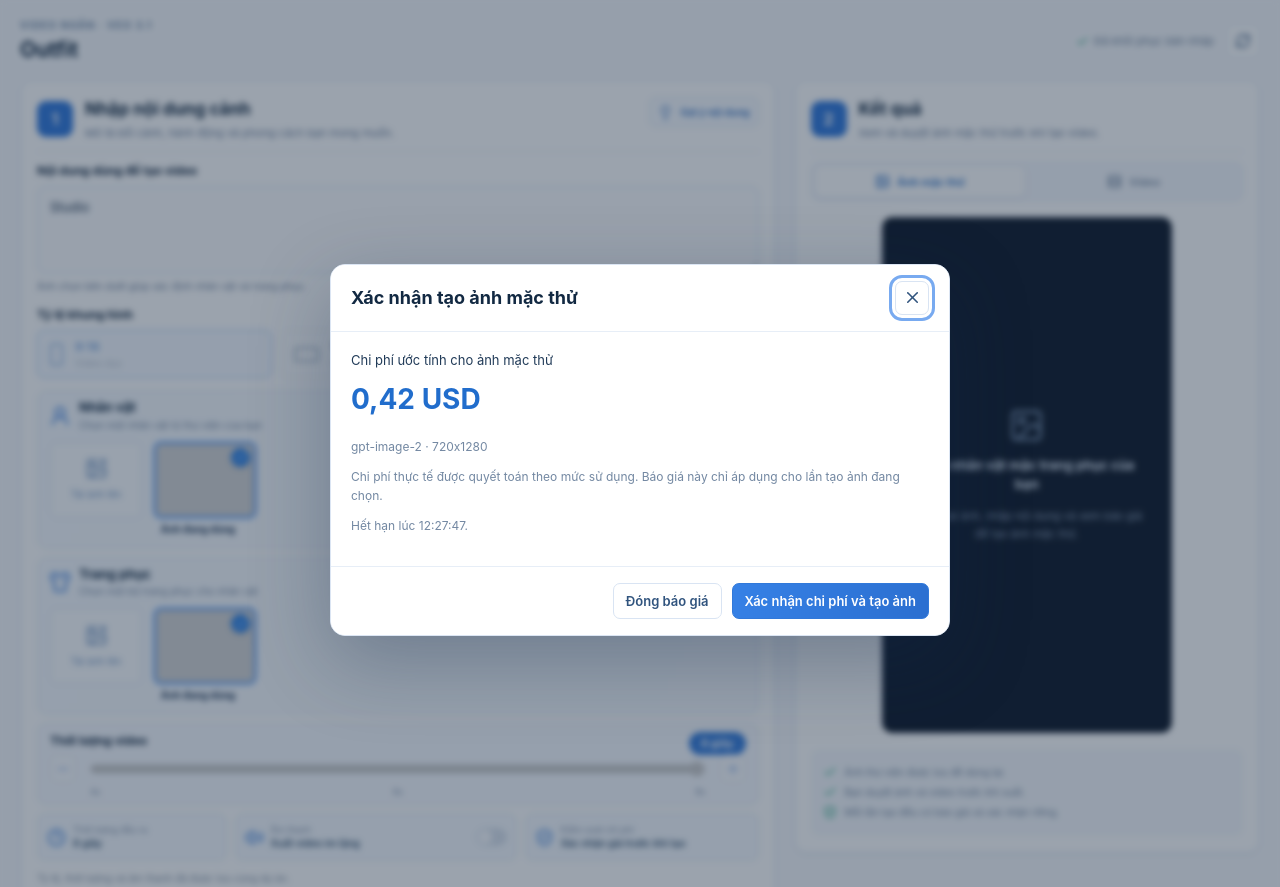
Test: outfit short-video composer › opens the creation quote once after the new project loads without submitting AI
Expected: the button "Xác nhận chi phí và tạo ảnh" is shown, [732,583,929,619]
Click the button "Đóng báo giá" at (667, 601), box [613,583,722,619]
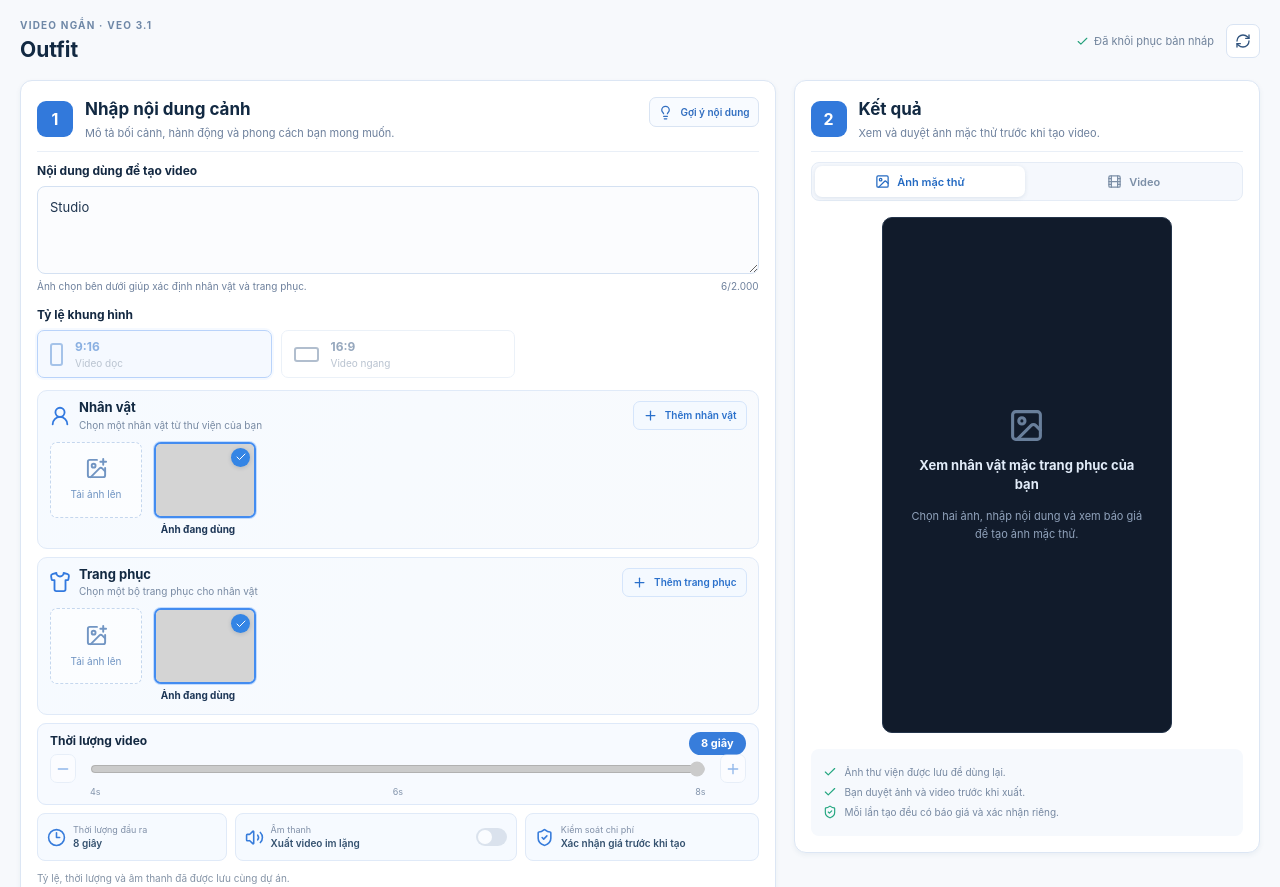
Expected: the dialog is gone
